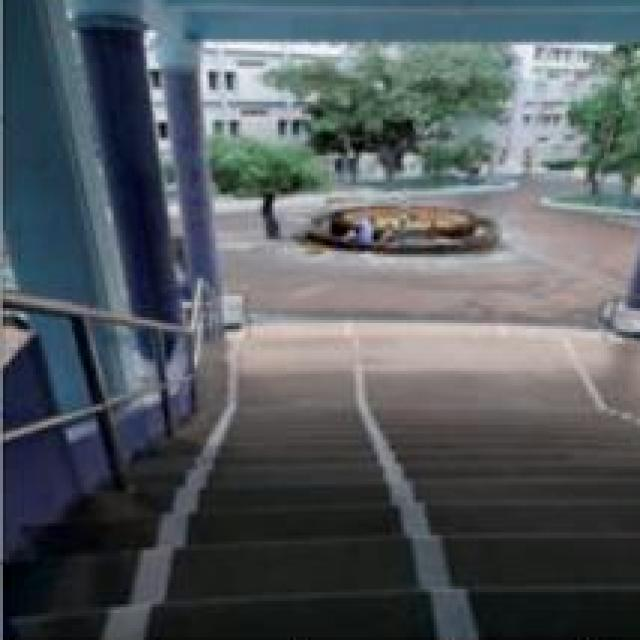downstair: (205, 402, 561, 569)
